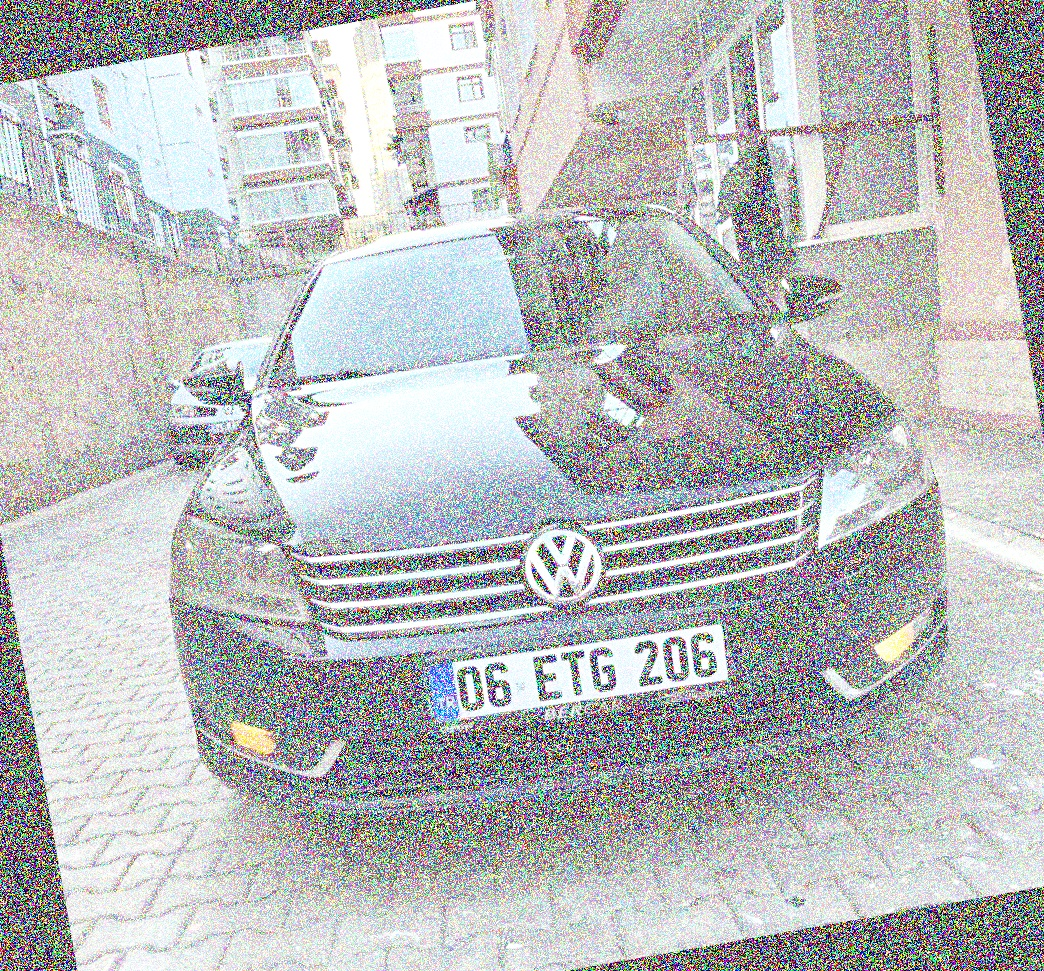plaka: (446, 623, 730, 709)
